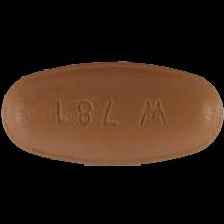43353-996: (0, 0, 224, 224)
